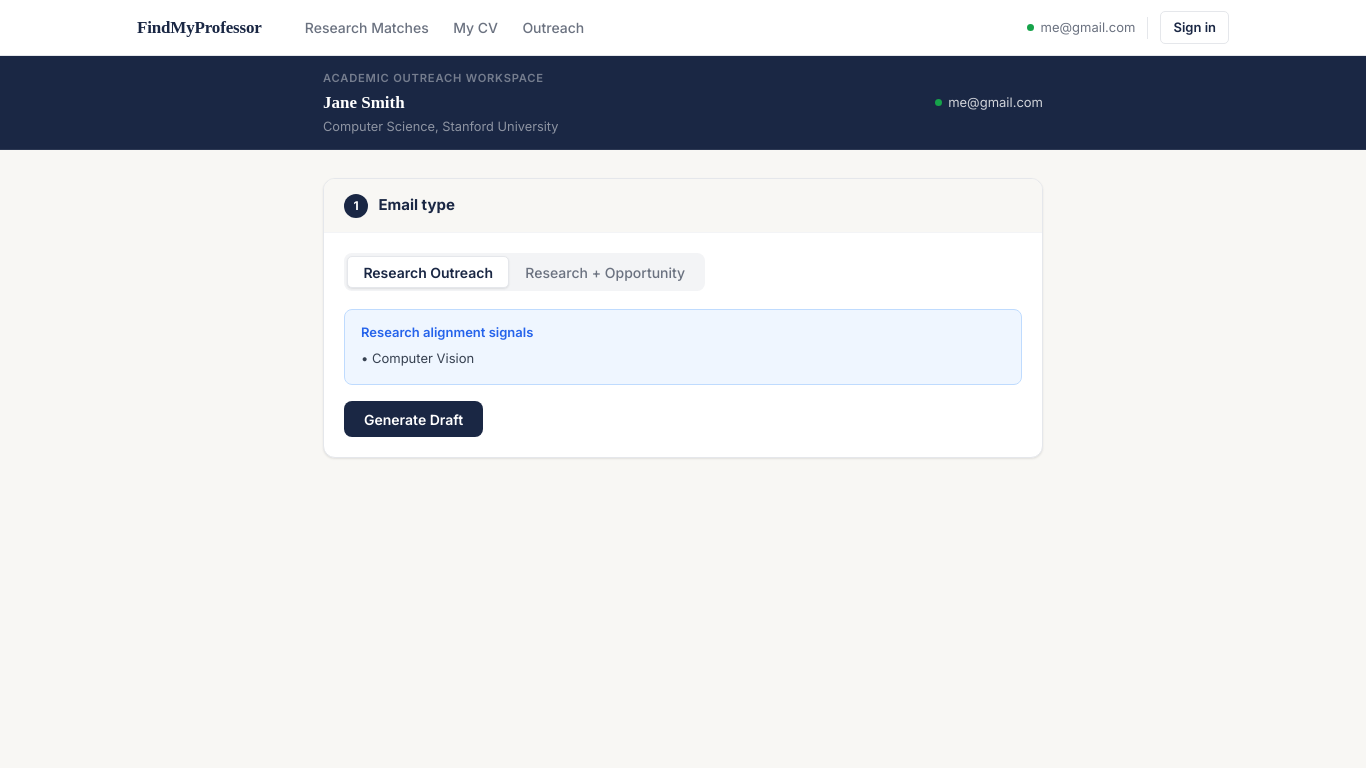
Email compose page › renders generated body in an editable textarea and subject in an input
Expected: the text "Jane Smith" is shown, [323,93,405,112]
Click the button "Generate Draft" at (414, 419), box [344,401,483,437]
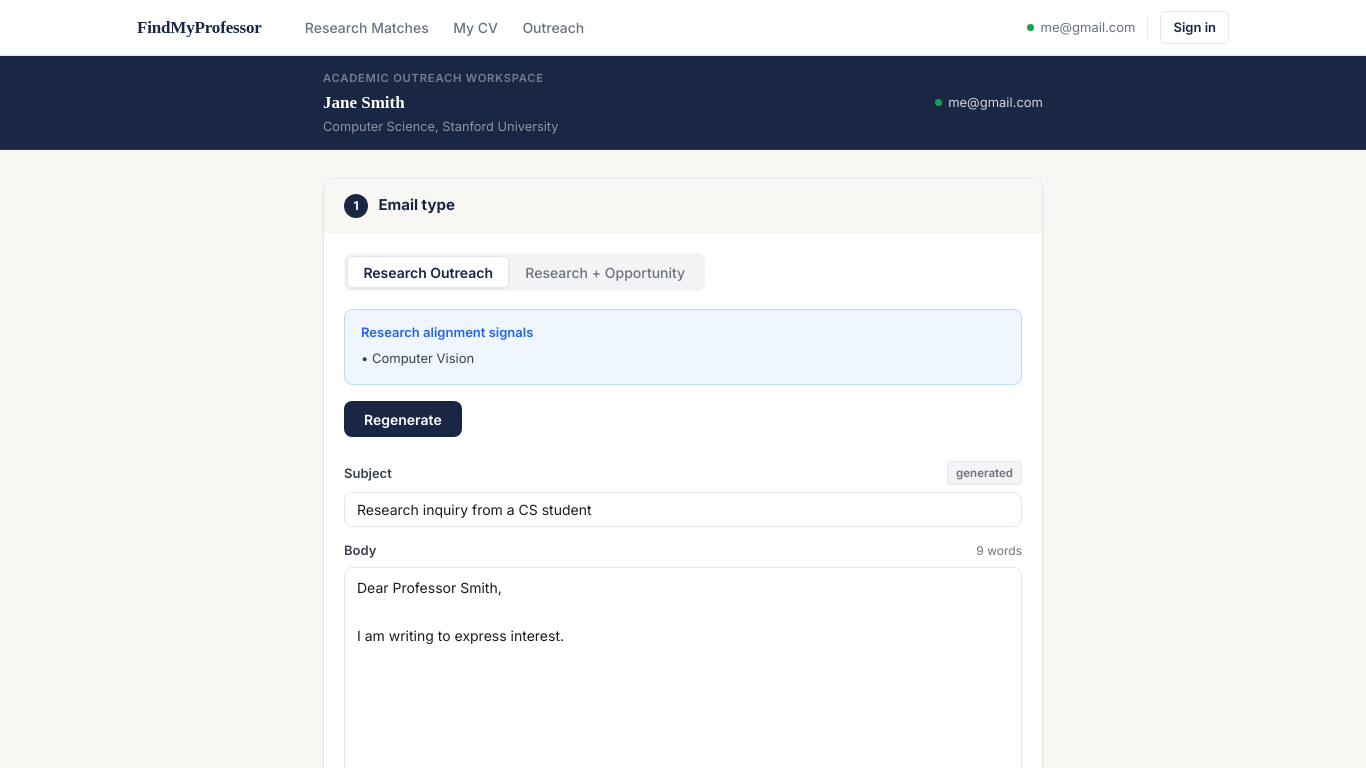
Expected: the field showing "Research inquiry from a CS student" is shown, [344,492,1022,527]
